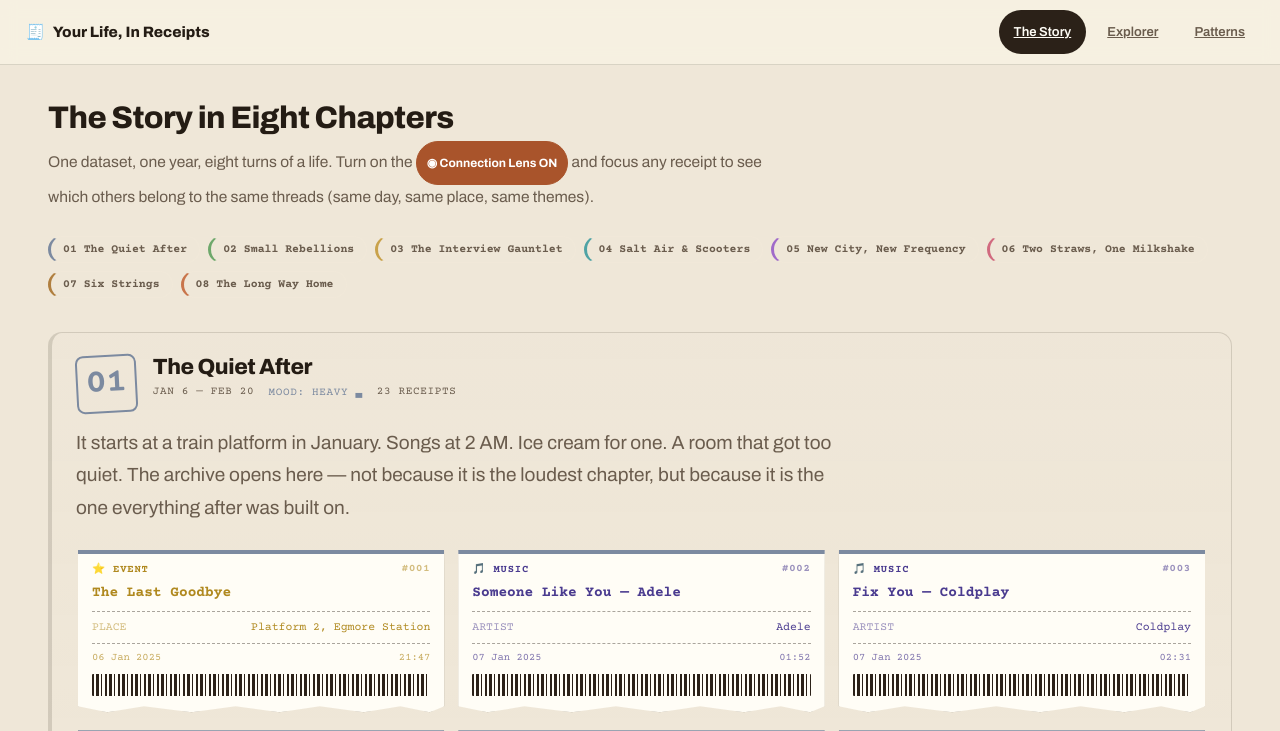
Test: application flow › navigates between views through the primary nav and keeps the hash in sync
The image size is (1280, 731).
Expected: the heading "The Story in Eight Chapters" is shown, [48, 101, 454, 135]
Step 1. Click the link "Patterns" → coordinates (1220, 32), box [1194, 25, 1245, 39]
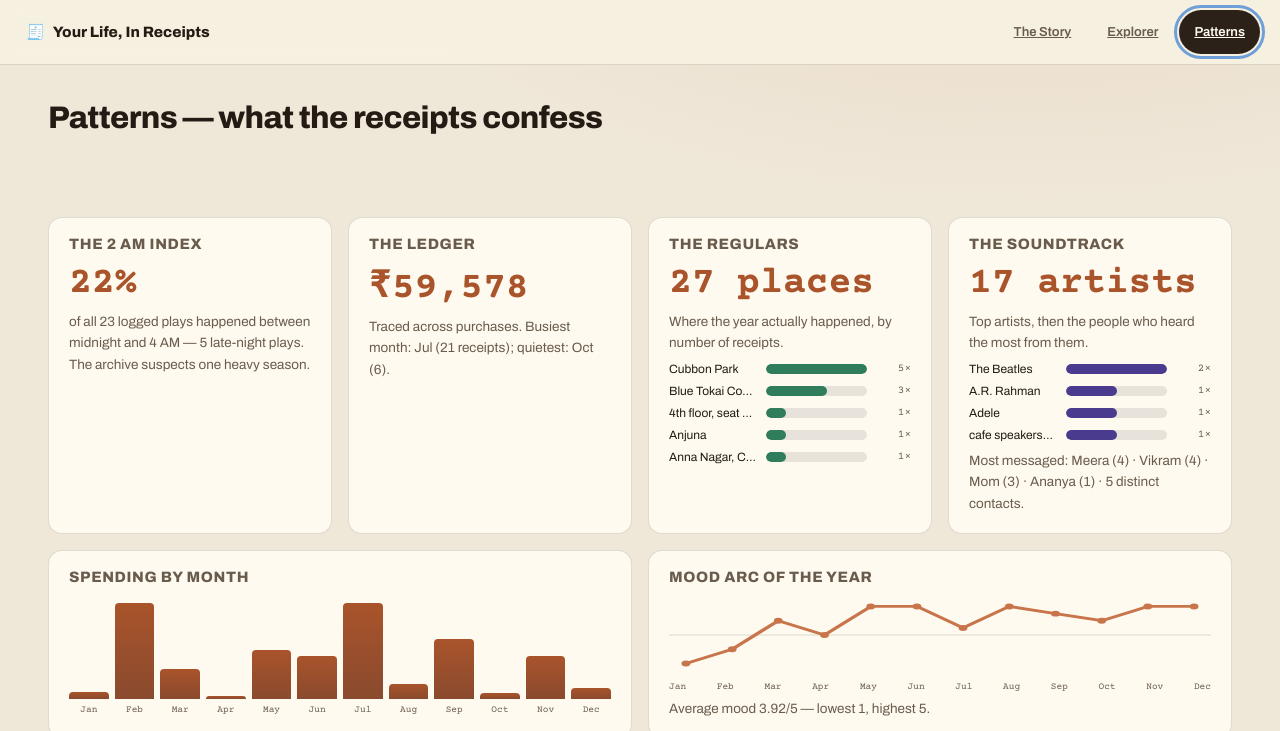
Now the heading "Patterns — what the receipts confess" is shown, box [48, 101, 603, 135]
